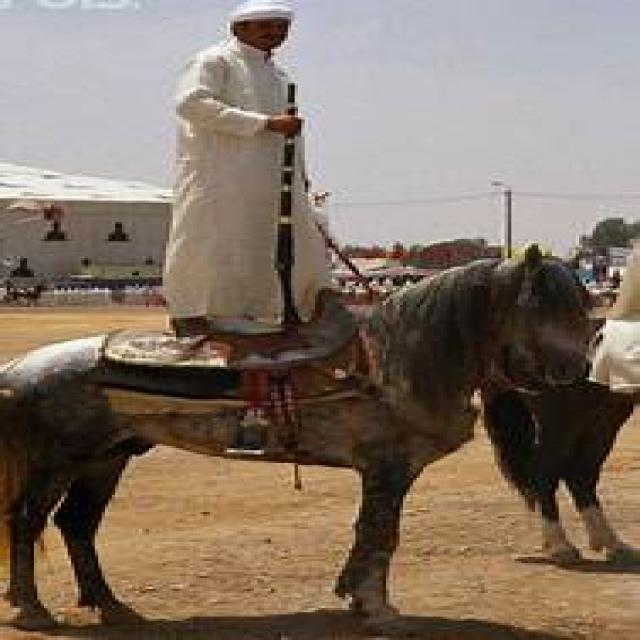horse: (4, 254, 587, 629)
